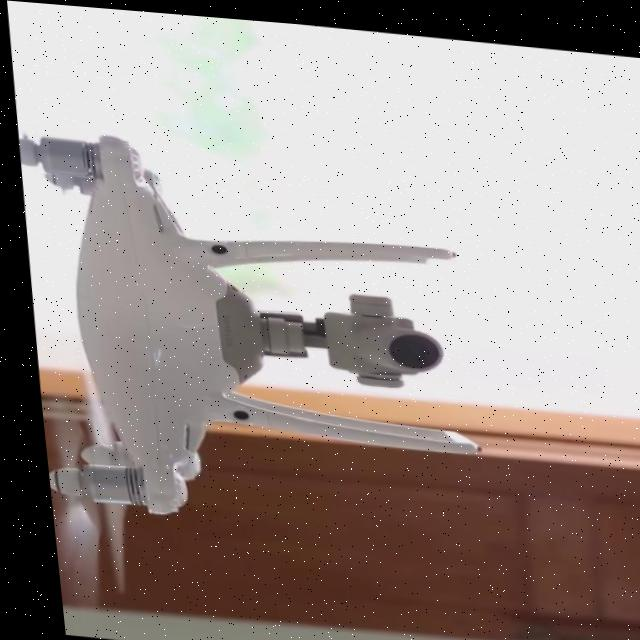drones: (8, 103, 532, 611)
